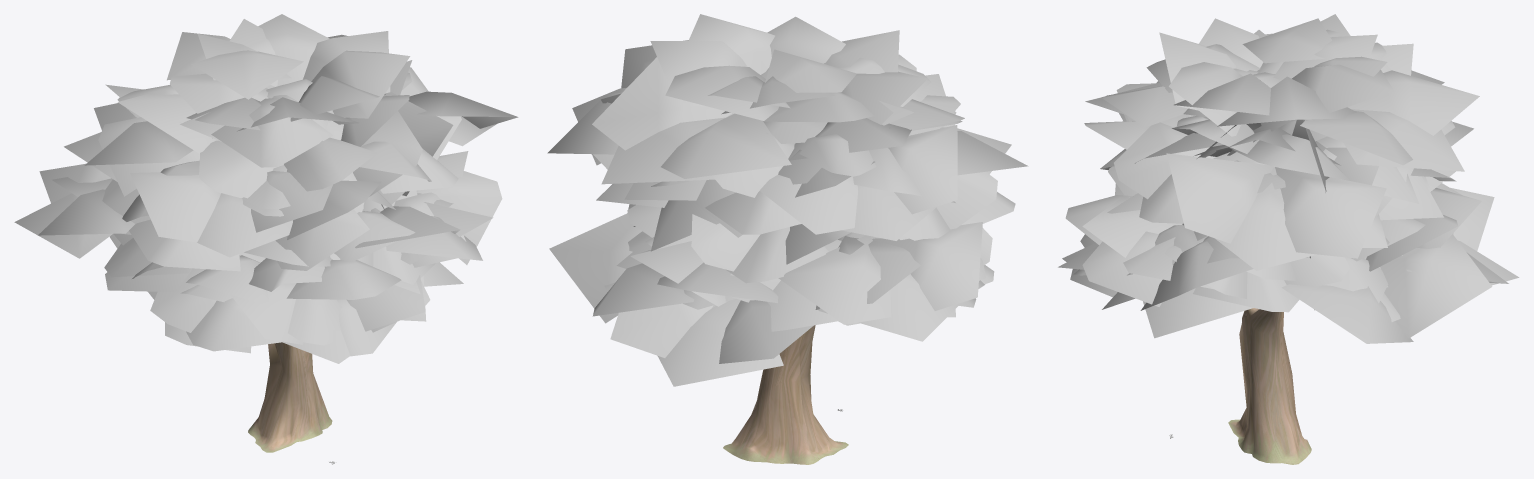
The model's file is ficus_tree.fbx.
The picture shows the model from 3 angles, left to right: view 1: azimuth 30°, elevation 25°; view 2: azimuth 150°, elevation 25°; view 3: azimuth 270°, elevation 25°; orthographic projection. The views are drawn at different scales.
Visible parts, largest first — view 1: focus_LOD0; view 2: focus_LOD0; view 3: focus_LOD0.
Part boxes in pixels (x1=…): focus_LOD0: x1=14, y1=14, x2=518, y2=464; focus_LOD0: x1=547, y1=14, x2=1028, y2=464; focus_LOD0: x1=1058, y1=14, x2=1519, y2=464.
Size of what is drawn, in the model's own units: 1173 by 1001 by 1067.
